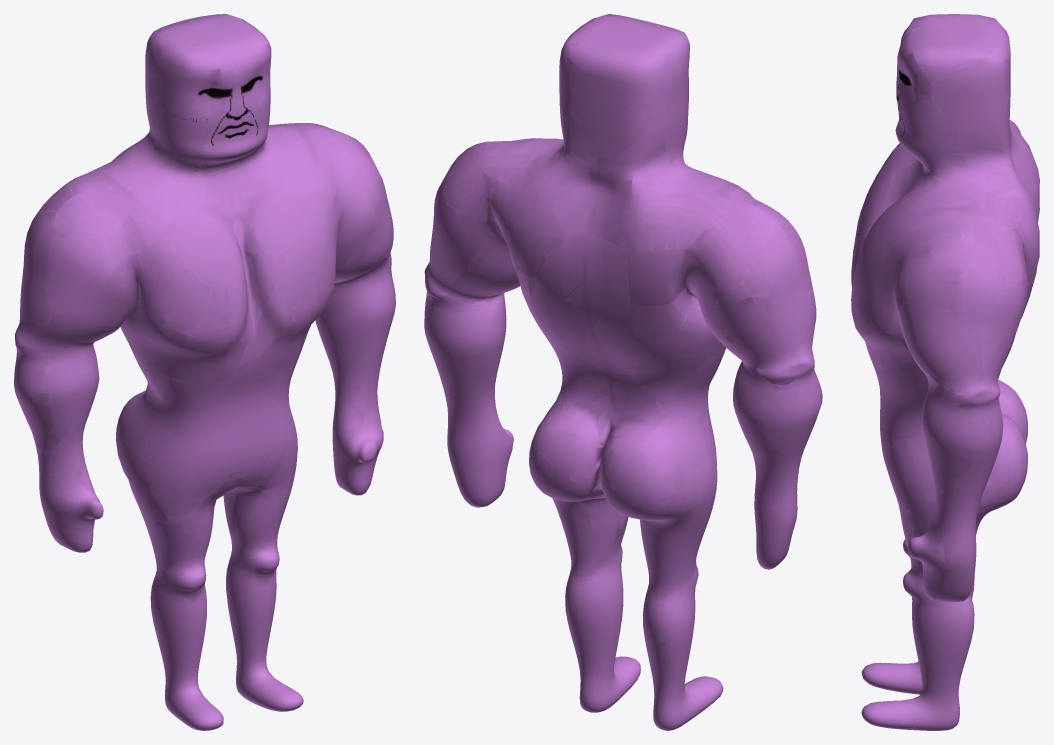
Rendered from Fractured.fbx.
The picture shows the model from 3 angles, left to right: view 1: azimuth 30°, elevation 25°; view 2: azimuth 150°, elevation 25°; view 3: azimuth 270°, elevation 25°; orthographic projection. The views are drawn at different scales.
Parts seen in each view (by area): view 1: Cube.001, Cube.001_cell.002, Cube.001_cell.069, Cube.001_cell.060, Cube.001_cell.001, Cube.001_cell.103, Cube.001_cell.073, Cube.001_cell.044, Cube.001_cell.062, Cube.001_cell.055, Cube.001_cell.059, Cube.001_cell.010 (+46 smaller); view 2: Cube.001, Cube.001_cell.016, Cube.001_cell.048, Cube.001_cell.088, Cube.001_cell.098, Cube.001_cell.086, Cube.001_cell.010, Cube.001_cell.102, Cube.001_cell.029, Cube.001_cell.036, Cube.001_cell.090, Cube.001_cell.027 (+37 smaller); view 3: Cube.001, Cube.001_cell.010, Cube.001_cell.079, Cube.001_cell.026, Cube.001_cell.072, Cube.001_cell.068, Cube.001_cell.064, Cube.001_cell.092, Cube.001_cell.096, Cube.001_cell.012, Cube.001_cell.066, Cube.001_cell.008 (+32 smaller).
Boxes of the visible parts, bbox=[...] form: Cube.001: bbox=[16, 14, 391, 720]; Cube.001_cell.002: bbox=[143, 429, 232, 520]; Cube.001_cell.069: bbox=[45, 233, 111, 315]; Cube.001_cell.060: bbox=[154, 375, 252, 438]; Cube.001_cell.001: bbox=[149, 44, 220, 122]; Cube.001_cell.103: bbox=[150, 558, 206, 641]; Cube.001_cell.073: bbox=[39, 475, 102, 552]; Cube.001_cell.044: bbox=[190, 481, 287, 567]; Cube.001_cell.062: bbox=[207, 43, 271, 126]; Cube.001_cell.055: bbox=[166, 217, 244, 288]; Cube.001_cell.059: bbox=[226, 253, 284, 375]; Cube.001_cell.010: bbox=[226, 556, 283, 684]; Cube.001: bbox=[425, 14, 814, 727]; Cube.001_cell.016: bbox=[718, 289, 816, 385]; Cube.001_cell.048: bbox=[533, 230, 630, 325]; Cube.001_cell.088: bbox=[569, 42, 670, 116]; Cube.001_cell.098: bbox=[624, 121, 685, 252]; Cube.001_cell.086: bbox=[487, 164, 569, 278]; Cube.001_cell.010: bbox=[565, 565, 621, 709]; Cube.001_cell.102: bbox=[641, 520, 707, 629]; Cube.001_cell.029: bbox=[685, 210, 775, 295]; Cube.001_cell.036: bbox=[627, 246, 719, 312]; Cube.001_cell.090: bbox=[568, 77, 664, 155]; Cube.001_cell.027: bbox=[756, 359, 822, 467]; Cube.001: bbox=[853, 14, 1039, 730]; Cube.001_cell.010: bbox=[899, 593, 974, 730]; Cube.001_cell.079: bbox=[899, 295, 984, 398]; Cube.001_cell.026: bbox=[922, 387, 997, 482]; Cube.001_cell.072: bbox=[931, 53, 1009, 127]; Cube.001_cell.068: bbox=[898, 96, 967, 186]; Cube.001_cell.064: bbox=[937, 492, 983, 602]; Cube.001_cell.092: bbox=[887, 181, 980, 258]; Cube.001_cell.096: bbox=[876, 364, 928, 440]; Cube.001_cell.012: bbox=[900, 246, 958, 309]; Cube.001_cell.066: bbox=[950, 261, 1012, 334]; Cube.001_cell.008: bbox=[980, 275, 1027, 399].
Bounding box in the file's own units: 563 × 958 × 241.
1 material, 1 textured.
